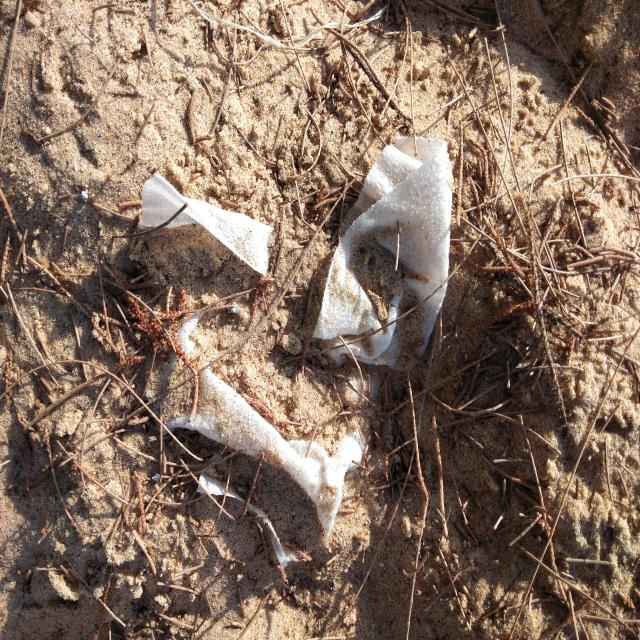litter: (141, 311, 368, 565), (309, 129, 455, 377), (138, 167, 277, 280)
